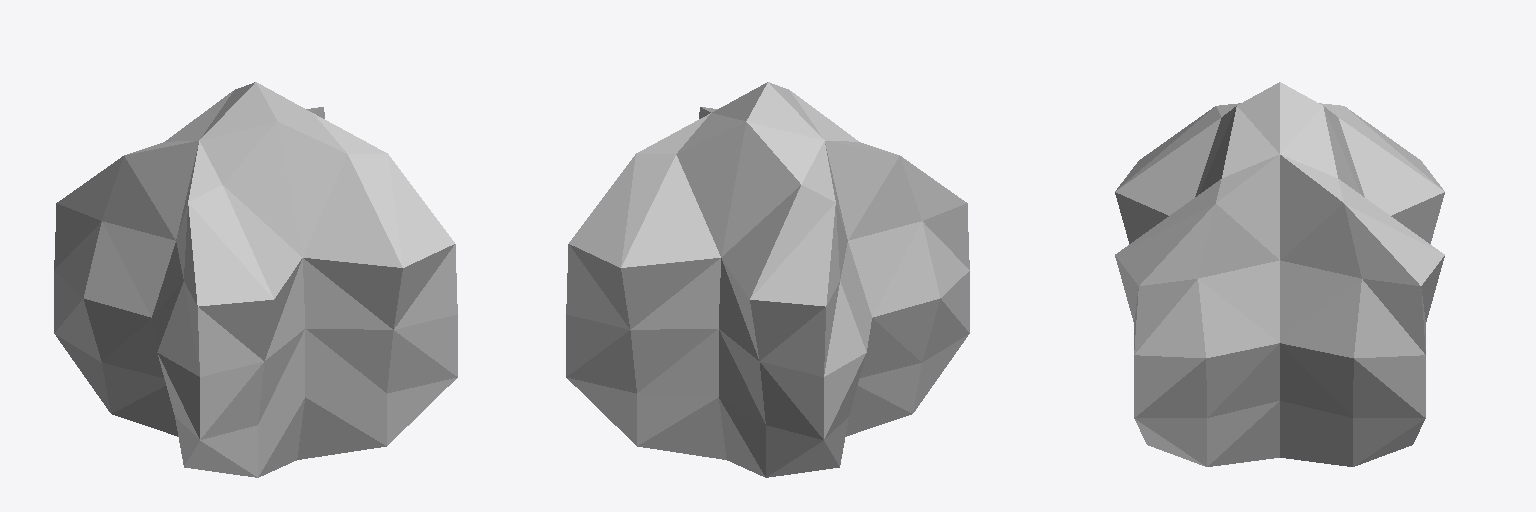
File: GranadeLaucnherAmmo_LOD0.obj
The picture shows the model from 3 angles: view 1: azimuth 30°, elevation 25°; view 2: azimuth 150°, elevation 25°; view 3: azimuth 270°, elevation 25°; orthographic projection.
Visible parts, largest first — view 1: Cube_Cube.001; view 2: Cube_Cube.001; view 3: Cube_Cube.001.
Part boxes in pixels (bbox=[...]): Cube_Cube.001: bbox=[54, 82, 457, 477]; Cube_Cube.001: bbox=[566, 82, 969, 477]; Cube_Cube.001: bbox=[1115, 82, 1444, 466].
Size of the model in its own units: 0.8026 by 0.984 by 0.8465.